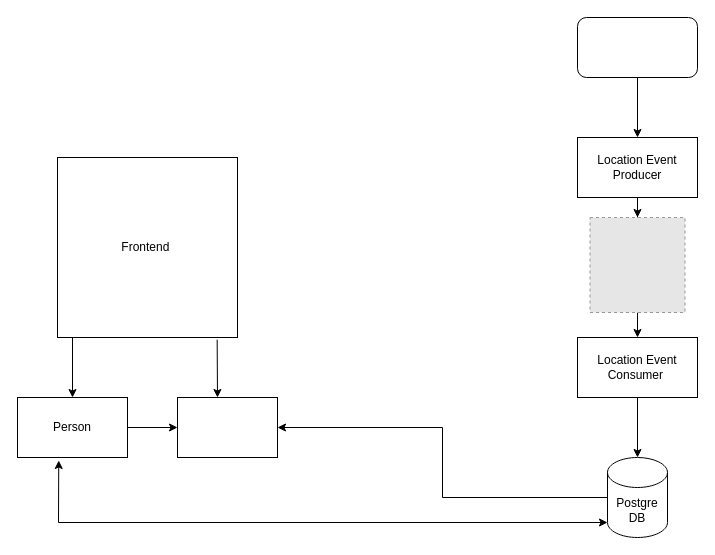
This 715x555 diagram has some shape labels left out. Grey dashed boxes stand in for pictures. The centre of each missing label's shape, as x and y in pixels:
Connection: the point at 227,427
User Device: the point at 637,47
